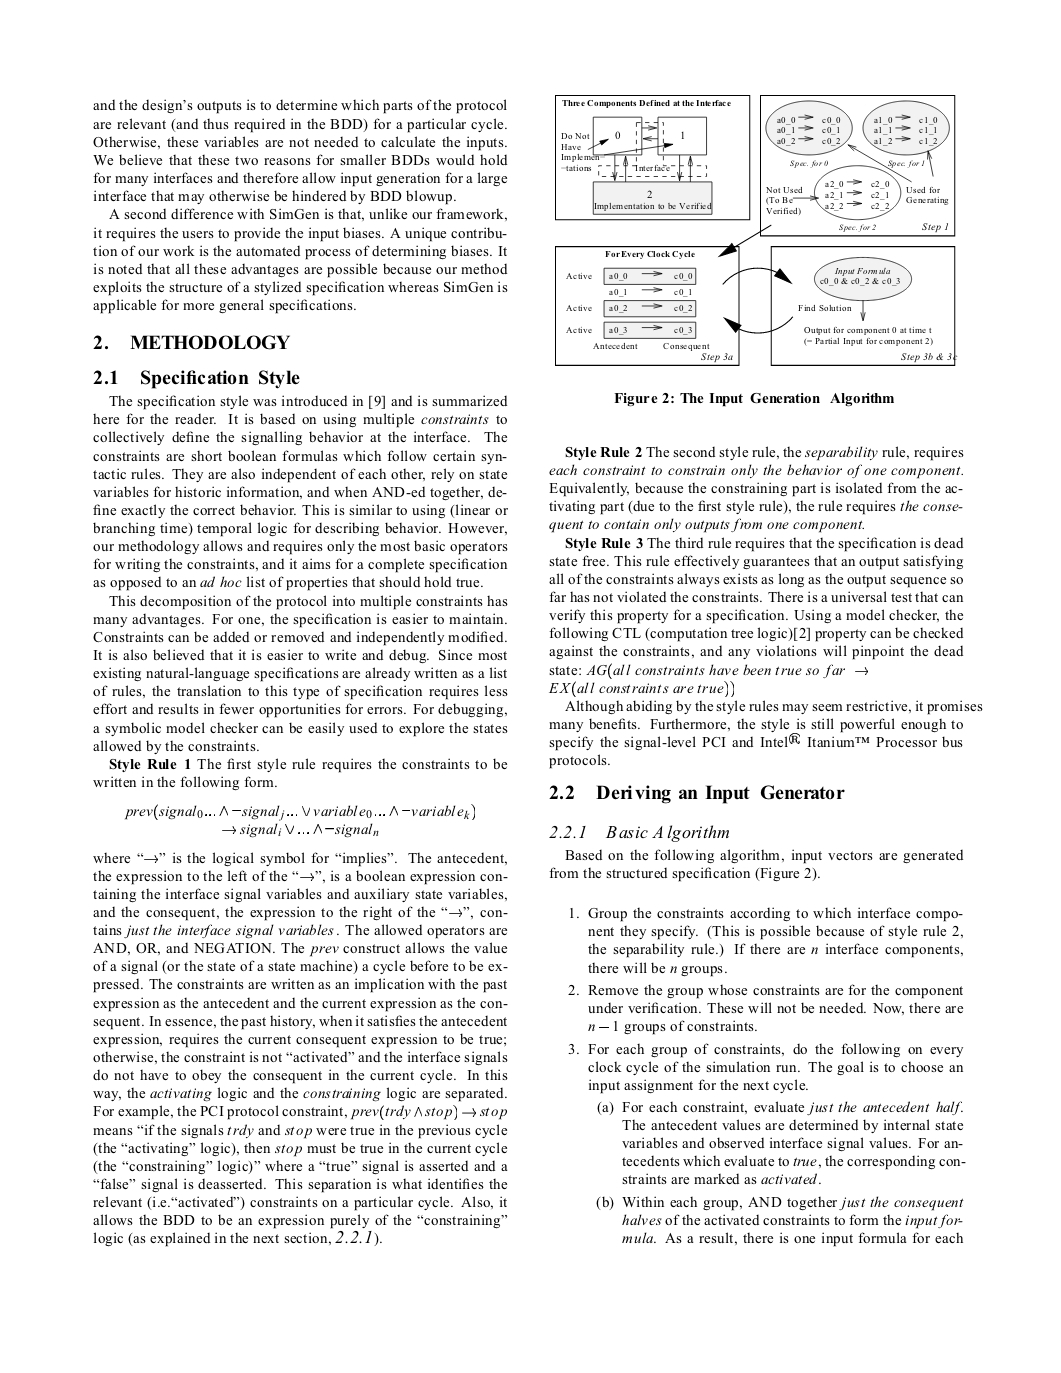figure: (555, 94, 957, 366)
formula: (124, 804, 474, 820), (222, 822, 378, 837)
